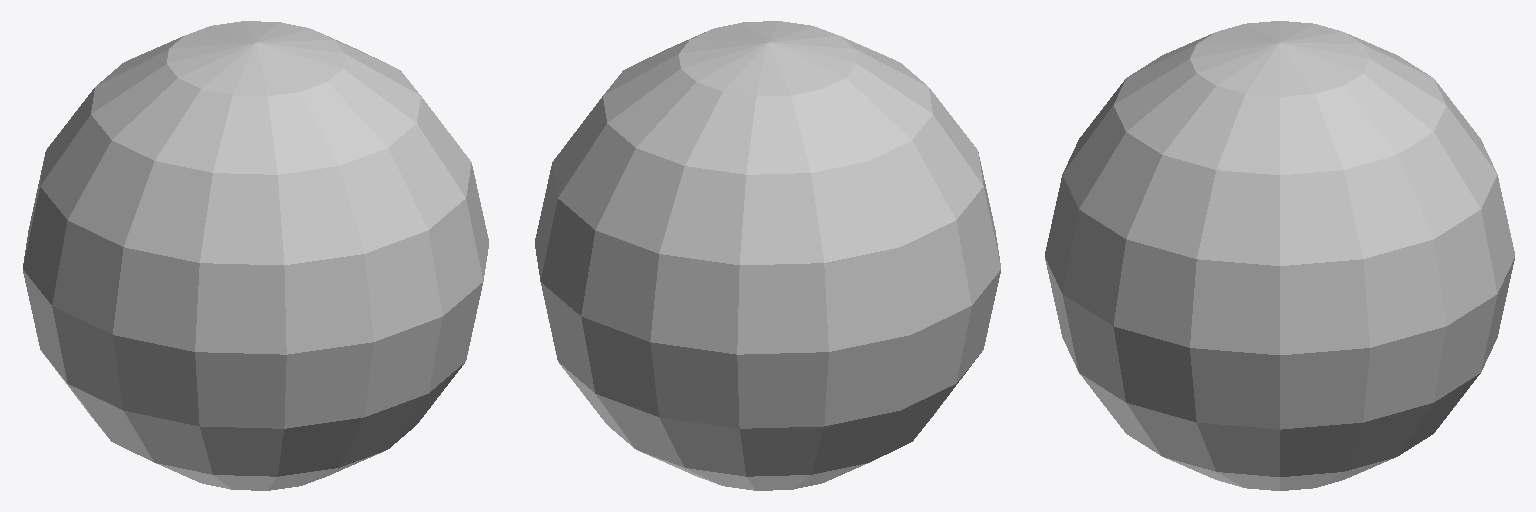
Rendered from bolablanca.obj.
The picture shows the model from 3 angles: view 1: azimuth 30°, elevation 25°; view 2: azimuth 150°, elevation 25°; view 3: azimuth 270°, elevation 25°; orthographic projection.
Visible parts, largest first — view 1: POOL_TABLE.024; view 2: POOL_TABLE.024; view 3: POOL_TABLE.024.
Part boxes in pixels (x1,y1,x2,y2): POOL_TABLE.024: (23,21,488,490); POOL_TABLE.024: (535,21,1000,490); POOL_TABLE.024: (1045,21,1514,490).
Bounding box in the file's own units: 0.0585 × 0.0585 × 0.0585.